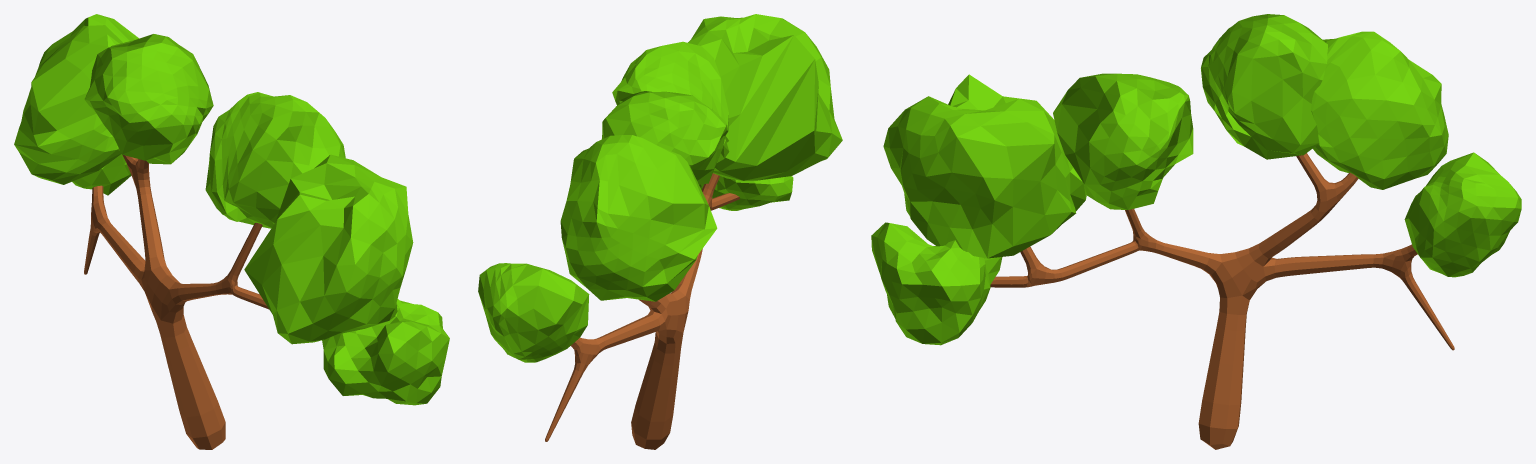
Rendered from m_Tree1.fbx.
3 views of the same model, side by side, from view 1: azimuth 30°, elevation 25°; view 2: azimuth 150°, elevation 25°; view 3: azimuth 270°, elevation 25° (orthographic). The views are drawn at different scales.
Visible parts, largest first — view 1: Leaves.001, Tree, Leaves.002, Leaves.003, Leaves.004, Leaves, Leaves.005; view 2: Leaves.004, Leaves.001, Tree, Leaves.005, Leaves.003, Leaves.002, Leaves; view 3: Leaves.001, Tree, Leaves.004, Leaves.002, Leaves.003, Leaves, Leaves.005.
Part boxes in pixels (x1,y1,x2,y2): Leaves.001: (244, 154, 413, 344); Tree: (84, 155, 269, 449); Leaves.002: (205, 92, 345, 228); Leaves.003: (84, 34, 213, 164); Leaves.004: (14, 14, 138, 184); Leaves: (322, 299, 449, 405); Leaves.005: (72, 154, 131, 195); Leaves.004: (560, 135, 717, 301); Leaves.001: (688, 14, 842, 180); Tree: (545, 173, 739, 449); Leaves.005: (478, 263, 589, 362); Leaves.003: (601, 91, 727, 184); Leaves.002: (612, 41, 729, 162); Leaves: (699, 176, 793, 210); Leaves.001: (883, 74, 1086, 258); Tree: (990, 153, 1454, 449); Leaves.004: (1310, 31, 1448, 189); Leaves.002: (1053, 73, 1193, 209); Leaves.003: (1201, 14, 1327, 159); Leaves: (871, 222, 1002, 345); Leaves.005: (1404, 152, 1521, 277).
Size of the model in its own units: 185 by 318 by 463.
